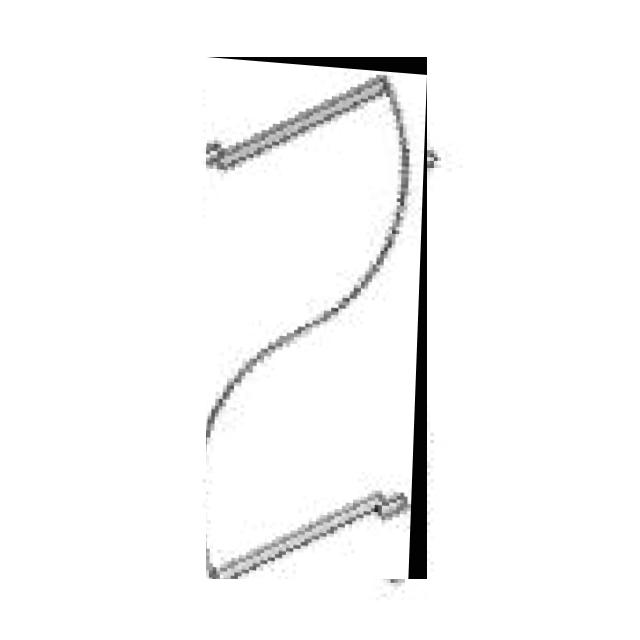door: (206, 57, 427, 579)
